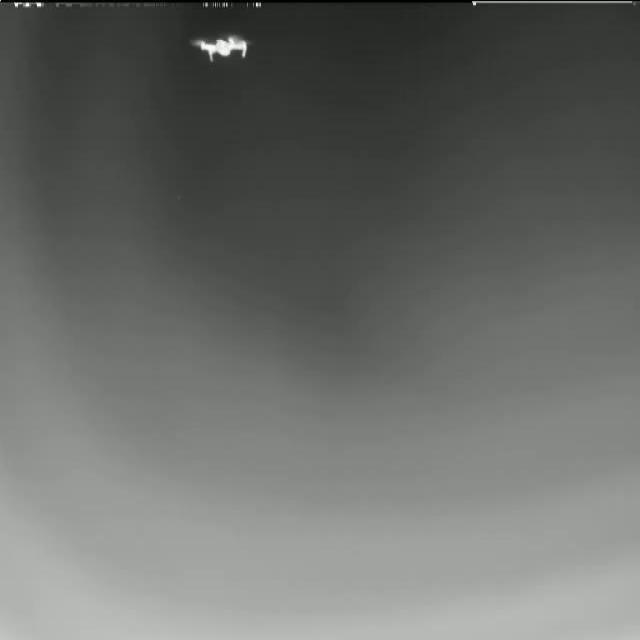DRONE: (188, 30, 255, 63)
